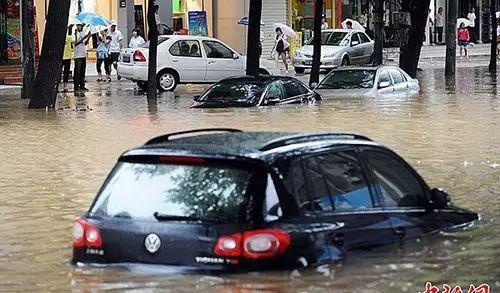water: (0, 67, 498, 217), (0, 209, 498, 291)
